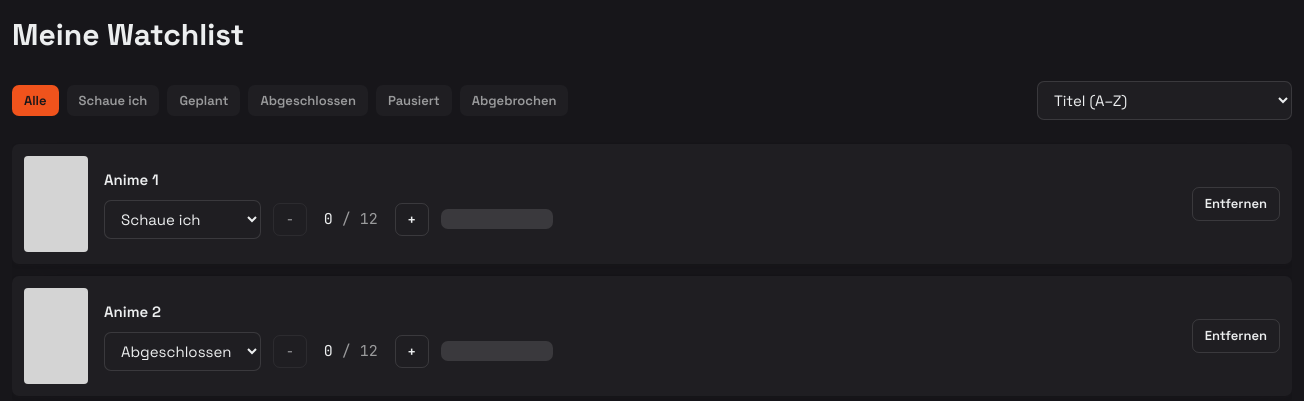
Test: WatchlistPage › filters by status
Click the tab "Abgeschlossen": (308, 101) left=248, top=85, right=368, bottom=116
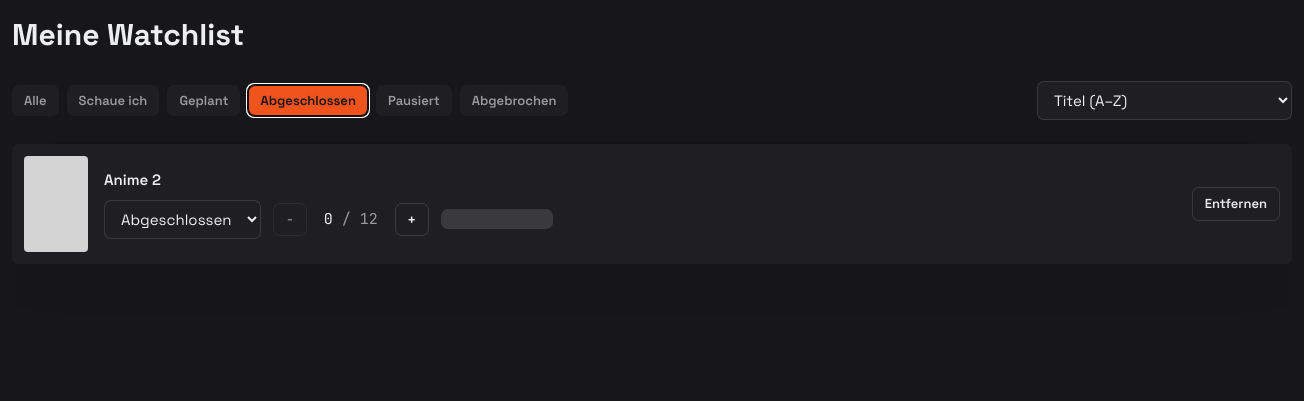
Click the tab "Pausiert": (414, 101) left=376, top=85, right=452, bottom=116
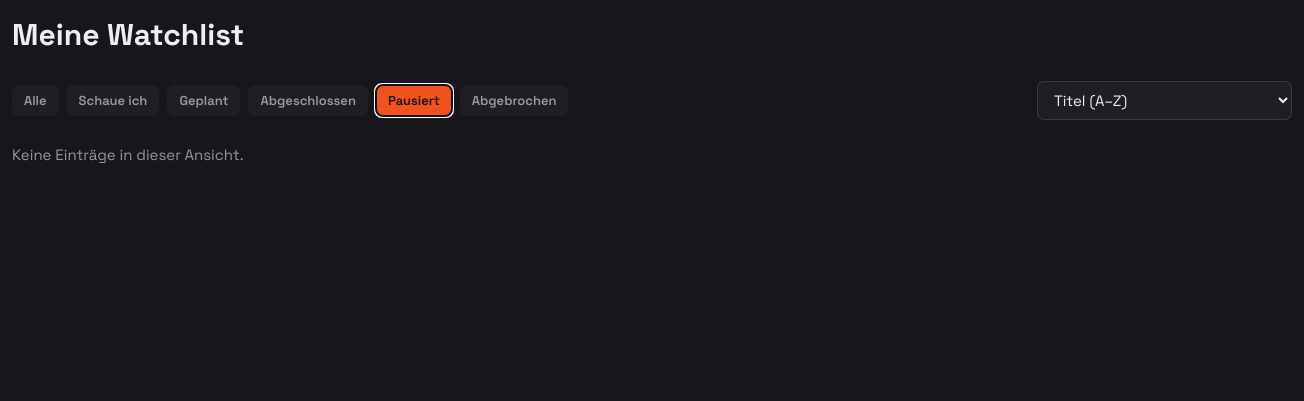
Now the text "Keine Einträge in dieser Ansicht." is shown, box left=12, top=145, right=243, bottom=164
